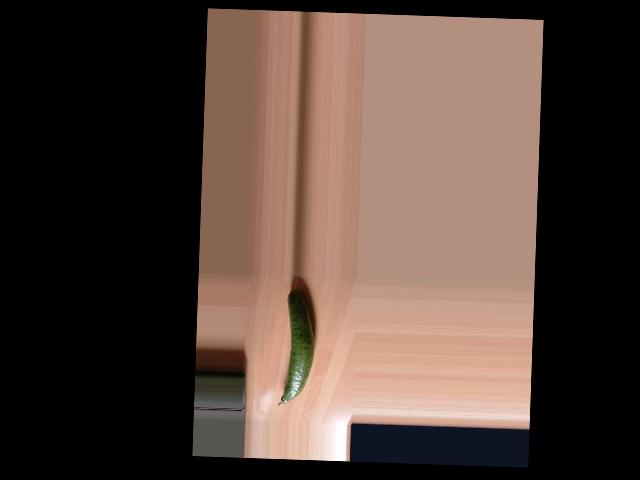cucumber: (278, 287, 317, 407)
